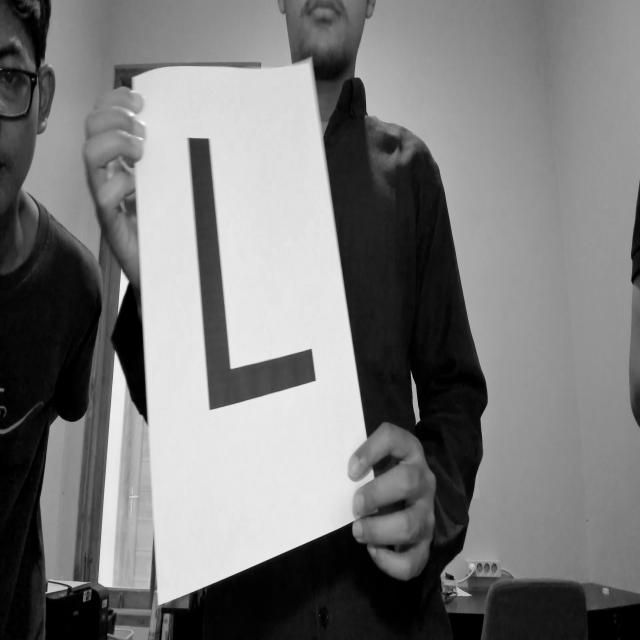l: (170, 120, 340, 424)
